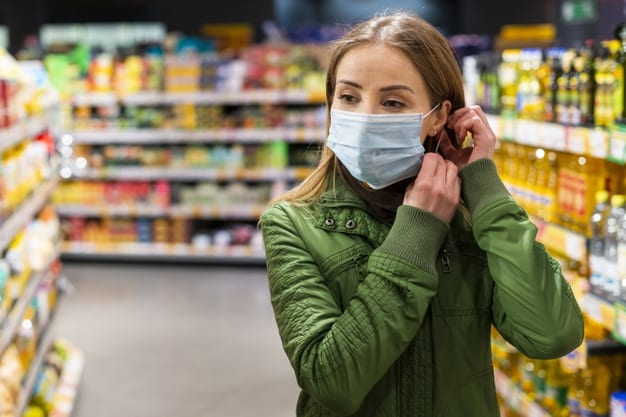with_mask: (333, 68, 425, 182)
